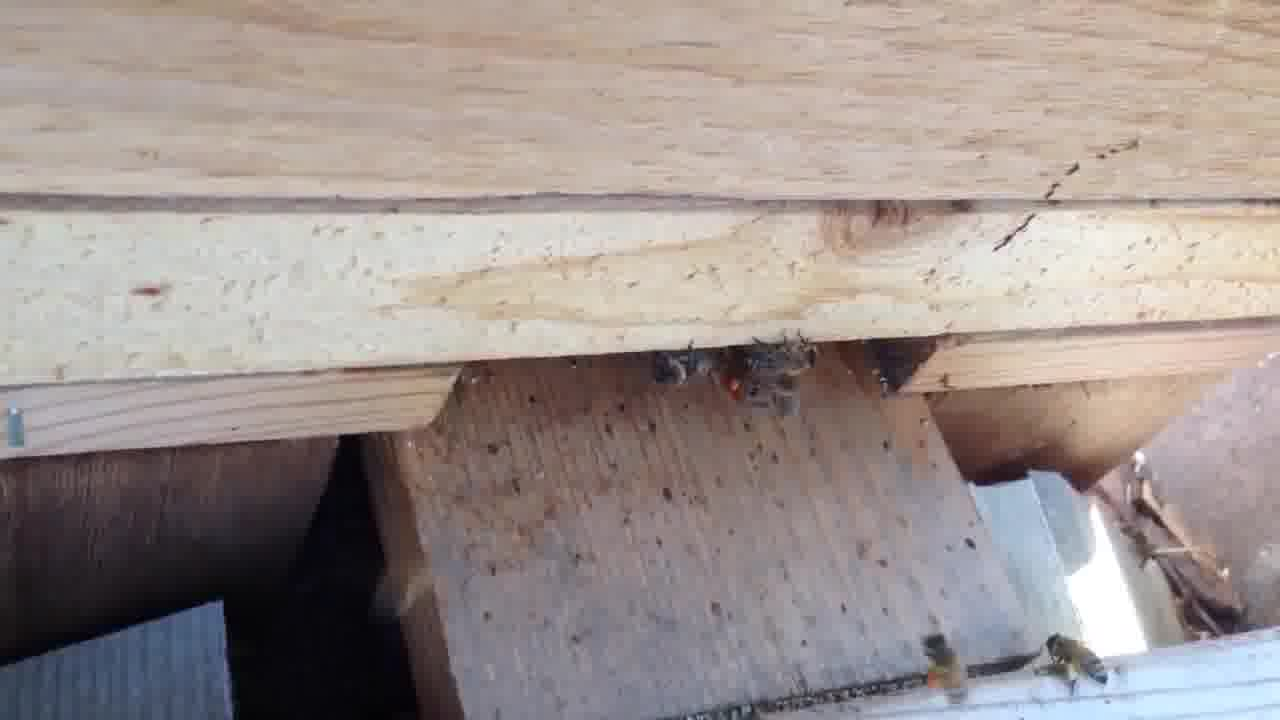pollen: (909, 629, 977, 708)
